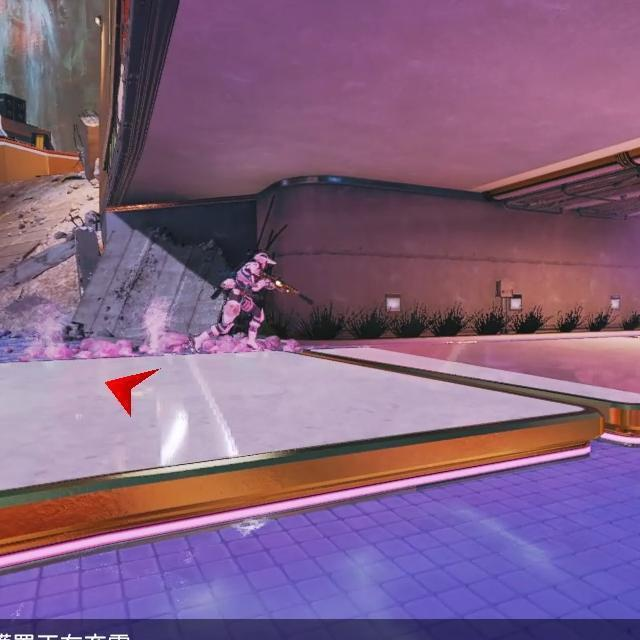avatar: (213, 250, 277, 356)
